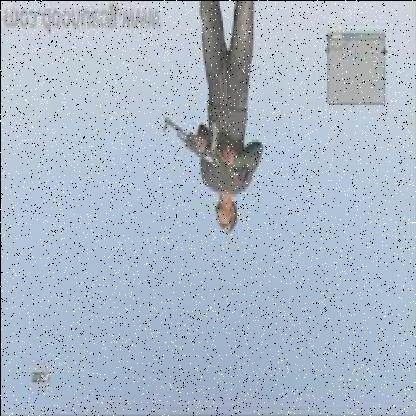rifle: (161, 106, 245, 186)
